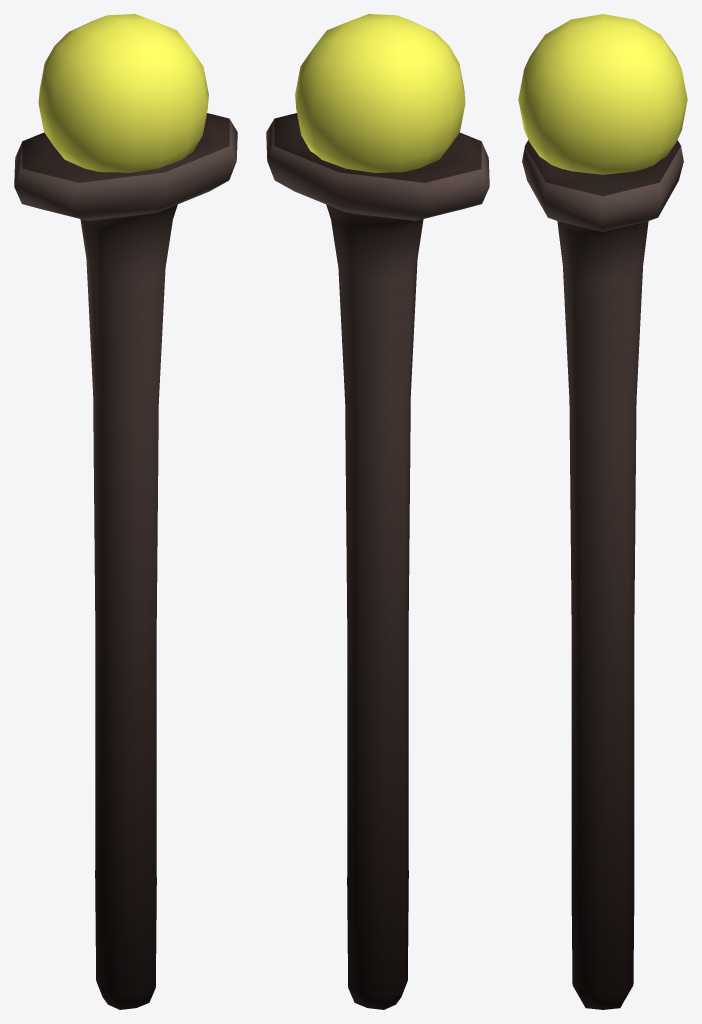
Rendered from MS_Enemy01_Wand01.fbx.
3 views of the same model, side by side, from view 1: azimuth 30°, elevation 25°; view 2: azimuth 150°, elevation 25°; view 3: azimuth 270°, elevation 25° (orthographic).
Parts seen in each view (by area): view 1: MS_Enemy01_Wand01; view 2: MS_Enemy01_Wand01; view 3: MS_Enemy01_Wand01.
Boxes of the visible parts, x1,y1,x2,y2 form: MS_Enemy01_Wand01: (14,14,237,1009); MS_Enemy01_Wand01: (266,14,489,1009); MS_Enemy01_Wand01: (518,14,687,1009).
Bounding box in the file's own units: 40.48 × 169 × 26.59.
